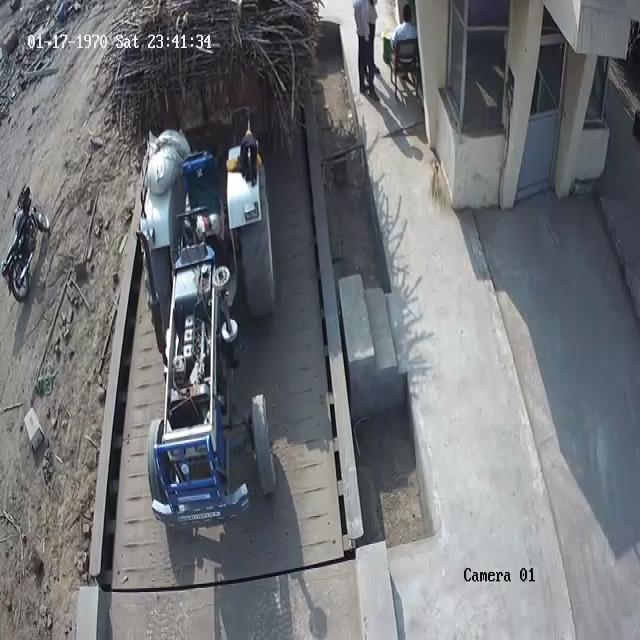Tratores - v5 YOLO V8L 2024-11-13: (144, 127, 282, 520)
